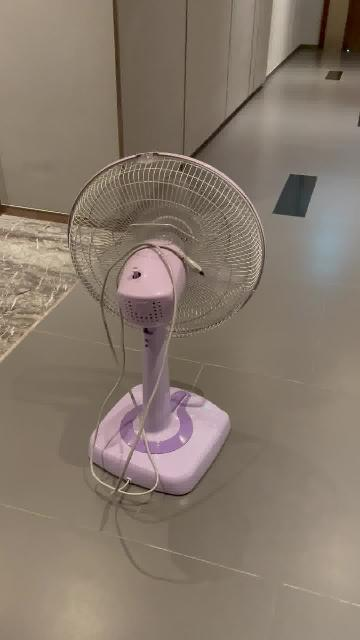Fan: (68, 152, 266, 498)
